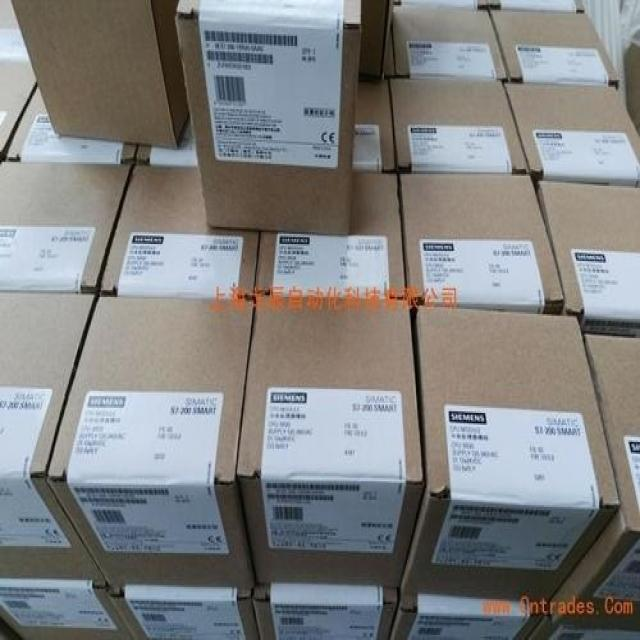box: (402, 302, 620, 608), (47, 291, 257, 586), (236, 294, 427, 587), (175, 0, 363, 234), (0, 287, 107, 589), (549, 328, 639, 630), (398, 168, 565, 314), (253, 165, 410, 304), (97, 166, 259, 295), (2, 155, 132, 295), (528, 173, 639, 330), (500, 79, 639, 183), (390, 76, 524, 167), (489, 6, 622, 88), (0, 80, 135, 160), (394, 1, 510, 80), (104, 585, 259, 636), (252, 585, 401, 638), (391, 590, 550, 638), (2, 581, 135, 638), (0, 0, 36, 148), (353, 76, 394, 169), (526, 607, 639, 637), (130, 121, 198, 166), (359, 1, 391, 78), (382, 12, 396, 78)
